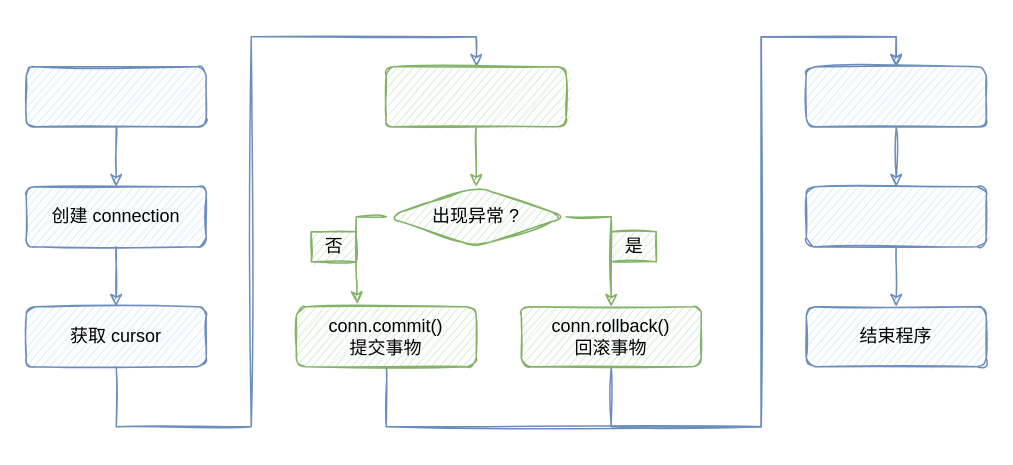
The diagram is 1013 pixels wide and 465 high, and some of its shapes have lost their labels. Each missing label, with the centre of its shape:
"connection.close()" belongs at pixel 895 216.
"cursor.close()" belongs at pixel 895 96.
"cursor.execute() 执行 i/u/d 语句" belongs at pixel 475 96.
"开始" belongs at pixel 115 96.
